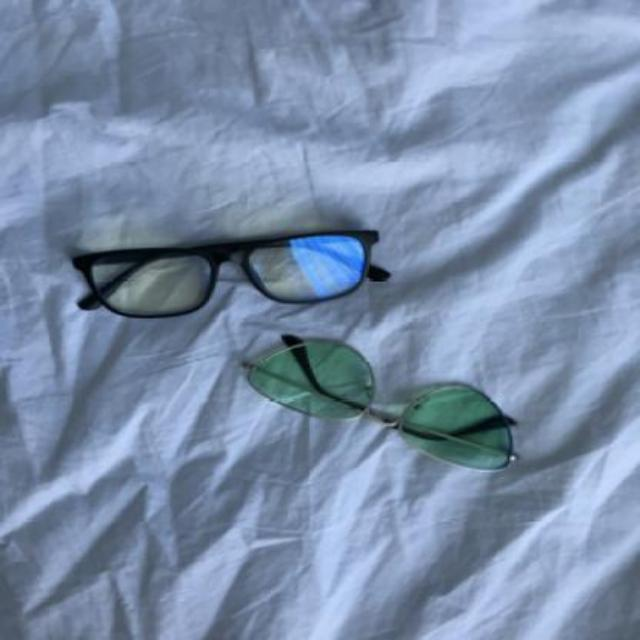glasses: (237, 334, 518, 468), (70, 228, 393, 316)
